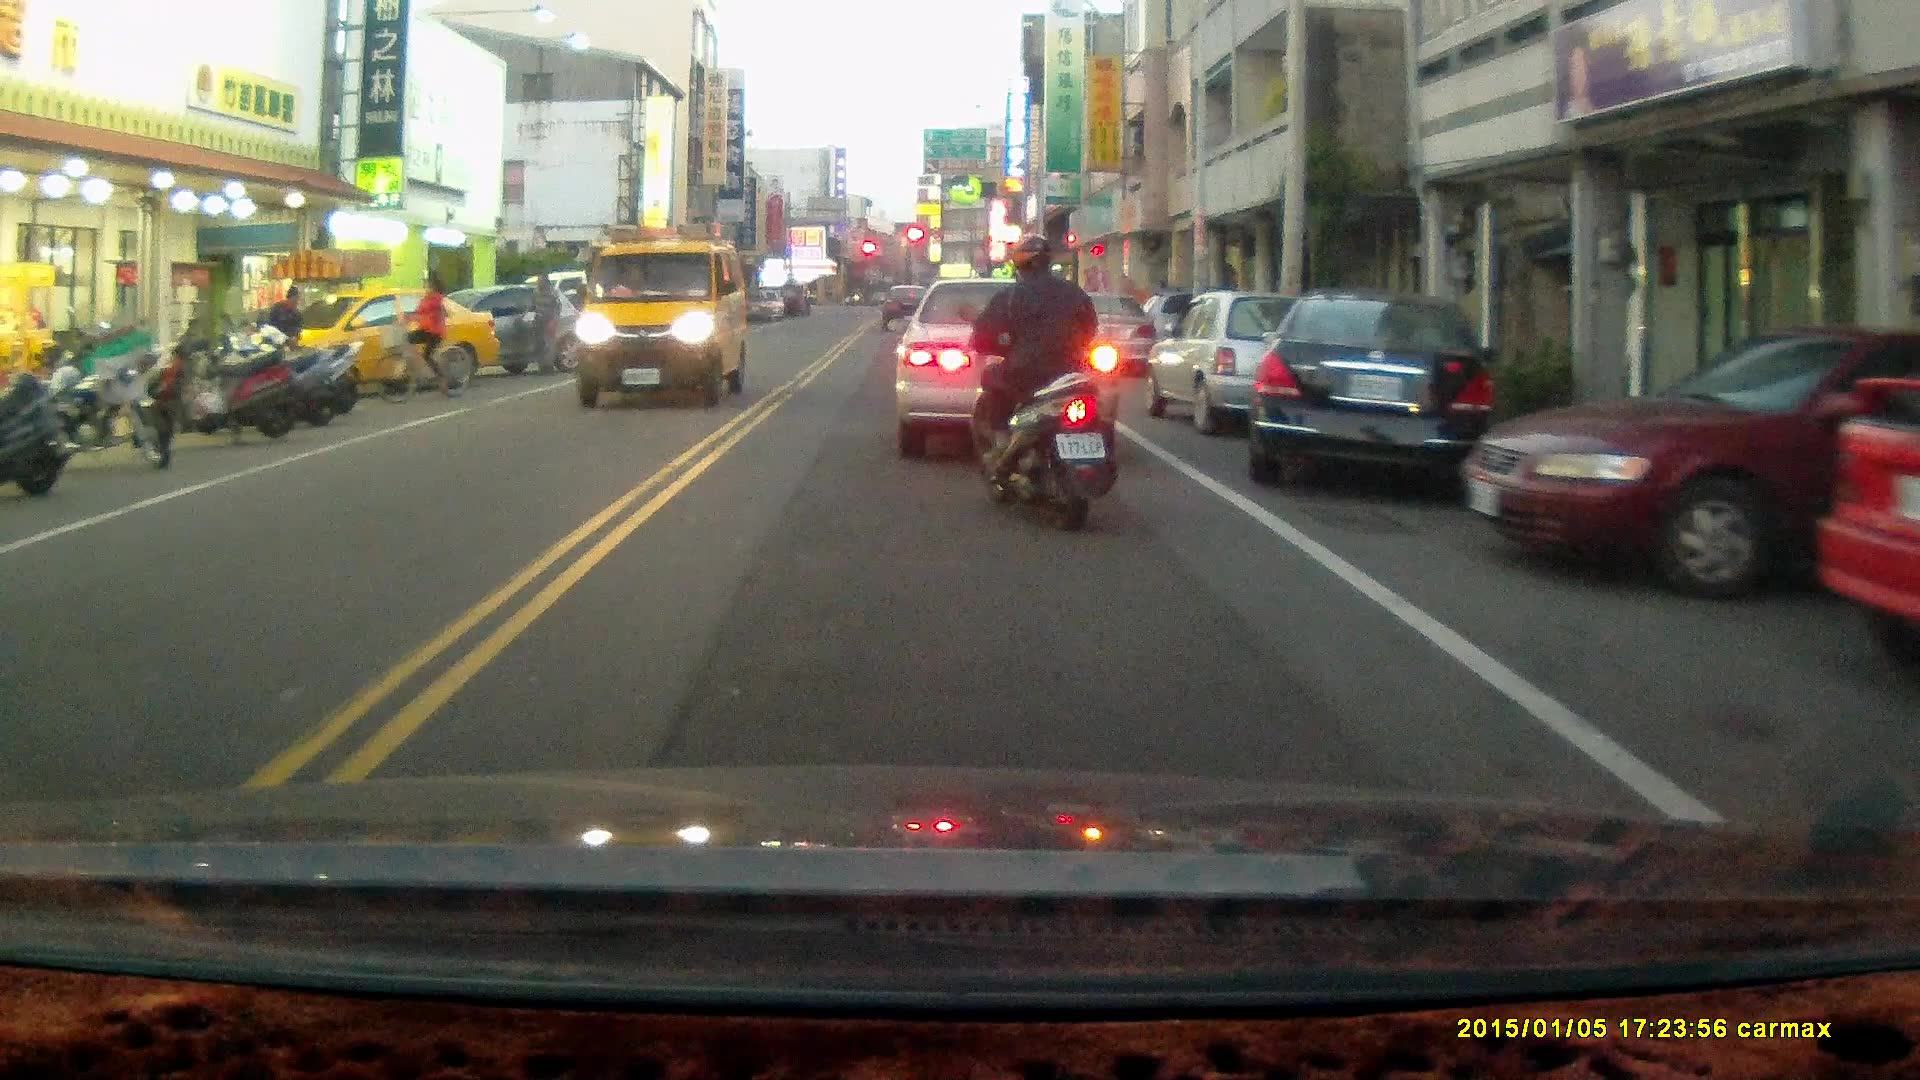pedestrian: (524, 269, 562, 373), (265, 283, 306, 377)
rider: (958, 230, 1119, 535), (372, 274, 474, 406)
vehicle: (1469, 321, 1920, 604), (1252, 287, 1506, 495), (901, 269, 1130, 449), (1815, 347, 1920, 677), (1139, 288, 1354, 437), (573, 225, 749, 406), (289, 288, 502, 392)
